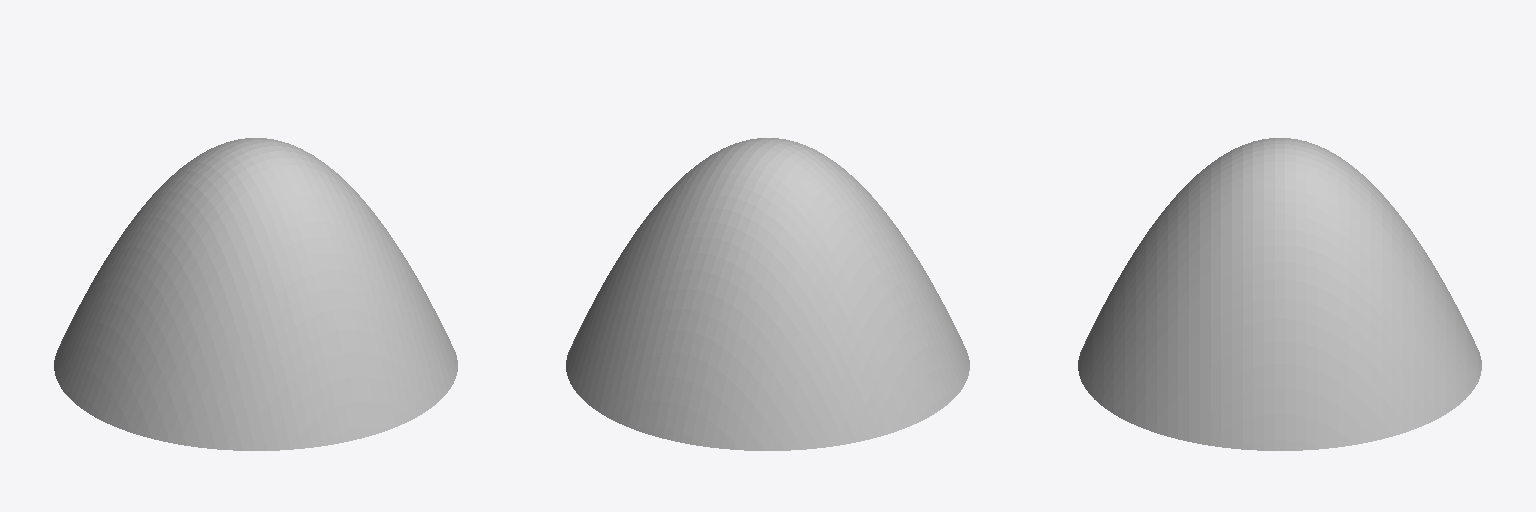
File: Paraboloid_r_6cm_h_7.2cm_f_1.25cm.obj
3 renders of one model, left to right at view 1: azimuth 30°, elevation 25°; view 2: azimuth 150°, elevation 25°; view 3: azimuth 270°, elevation 25°, orthographic.
Visible parts, largest first — view 1: Z_Function.003; view 2: Z_Function.003; view 3: Z_Function.003.
Boxes of the visible parts, x1,y1,x2,y2 form: Z_Function.003: [54, 138, 457, 450]; Z_Function.003: [566, 138, 969, 450]; Z_Function.003: [1078, 138, 1481, 450].
Bounding box in the file's own units: 0.1199 × 0.0719 × 0.1199.